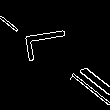L_E: (25, 33, 80, 72)
